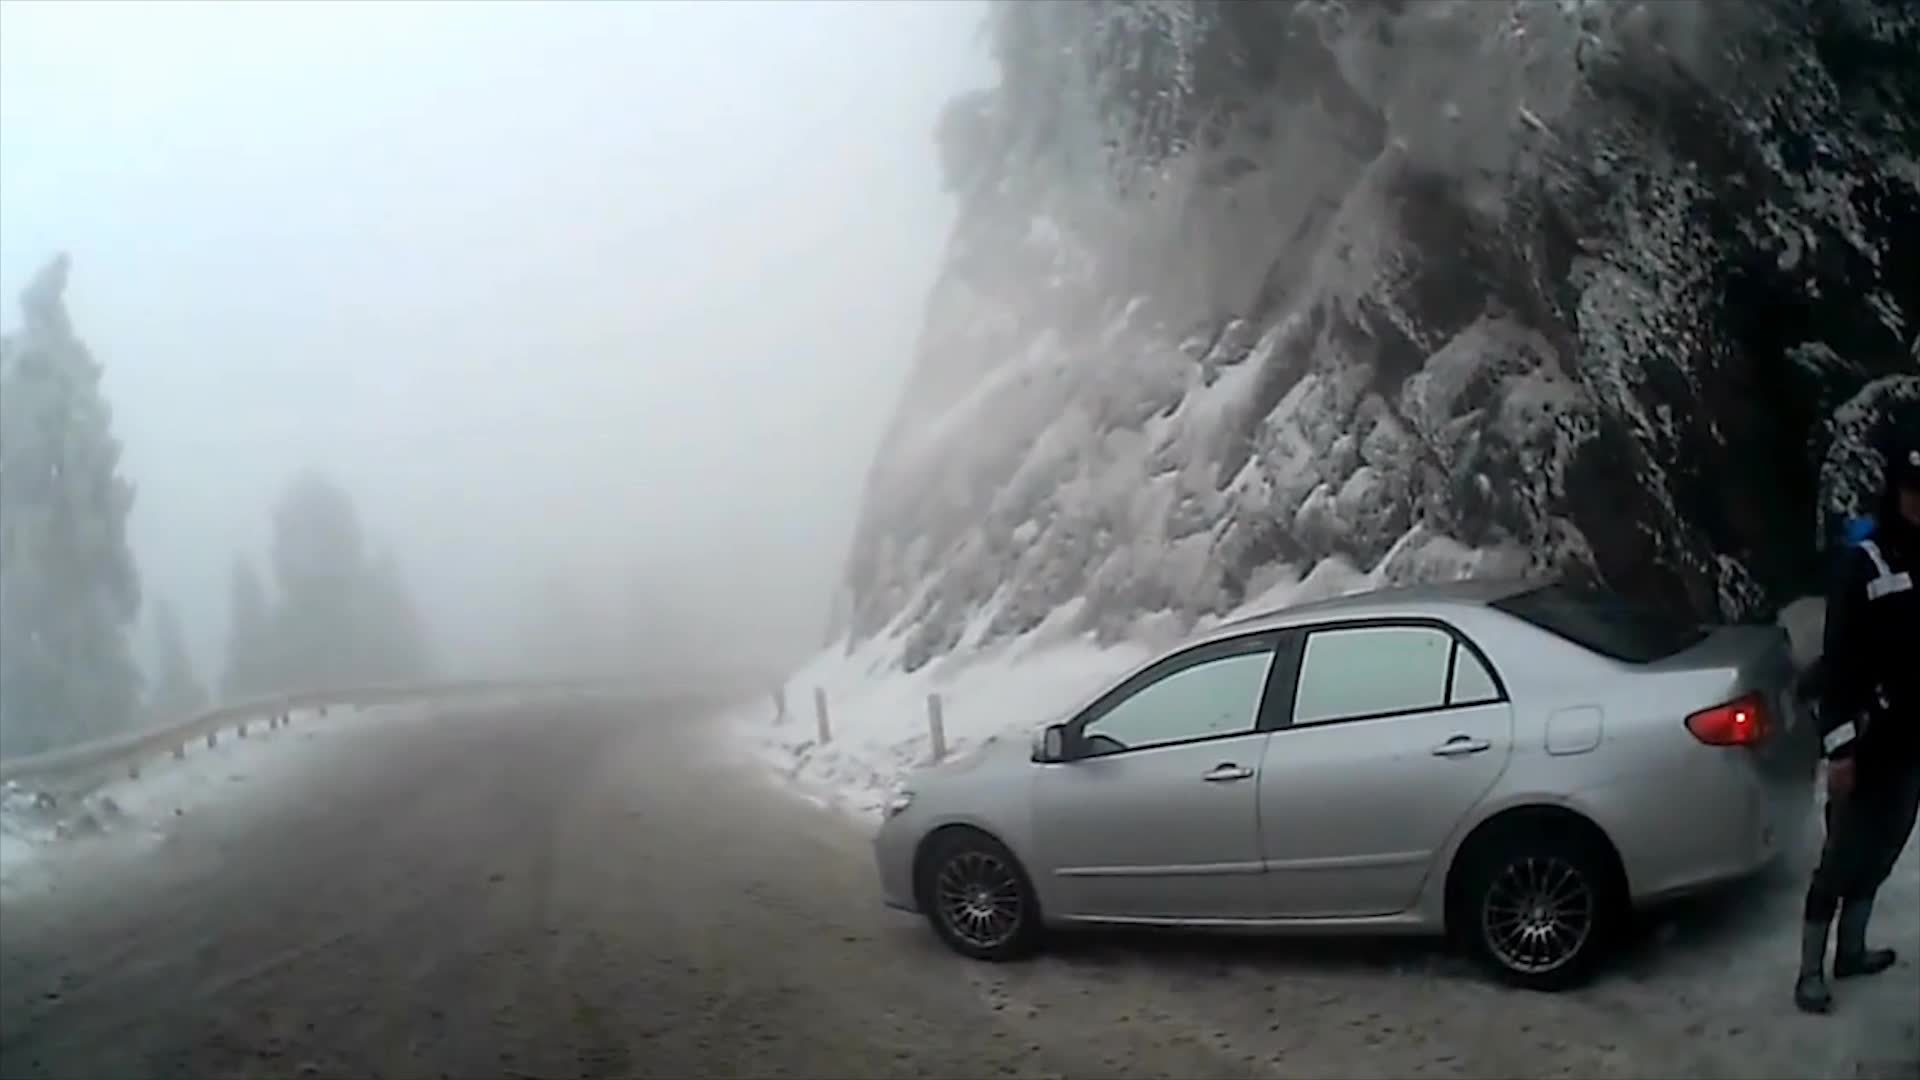pedestrian: (1793, 457, 1920, 1017)
vehicle: (871, 578, 1819, 993)
